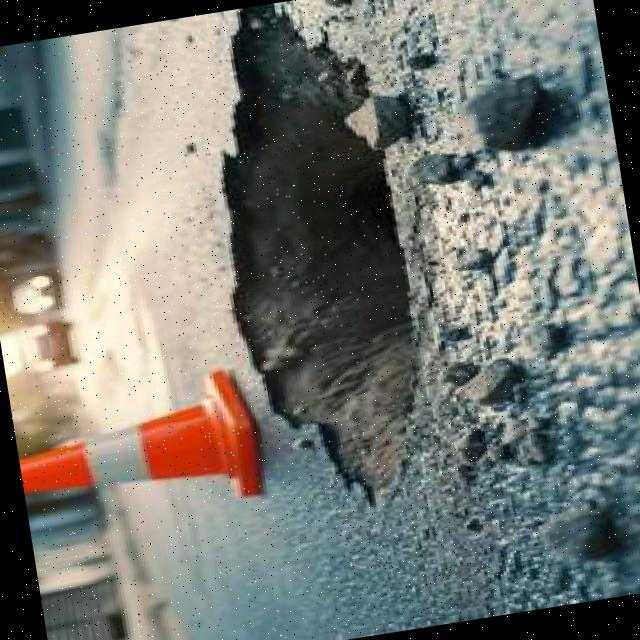road collapse: (48, 0, 640, 615)
